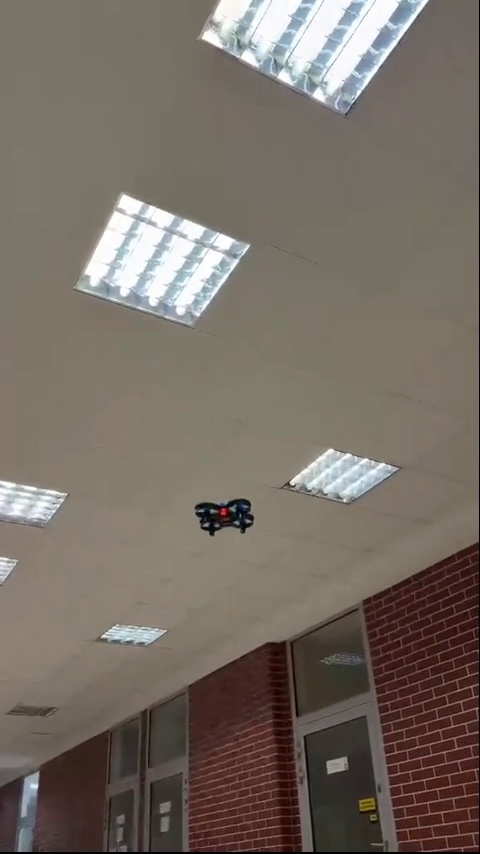drone: (194, 499, 258, 538)
